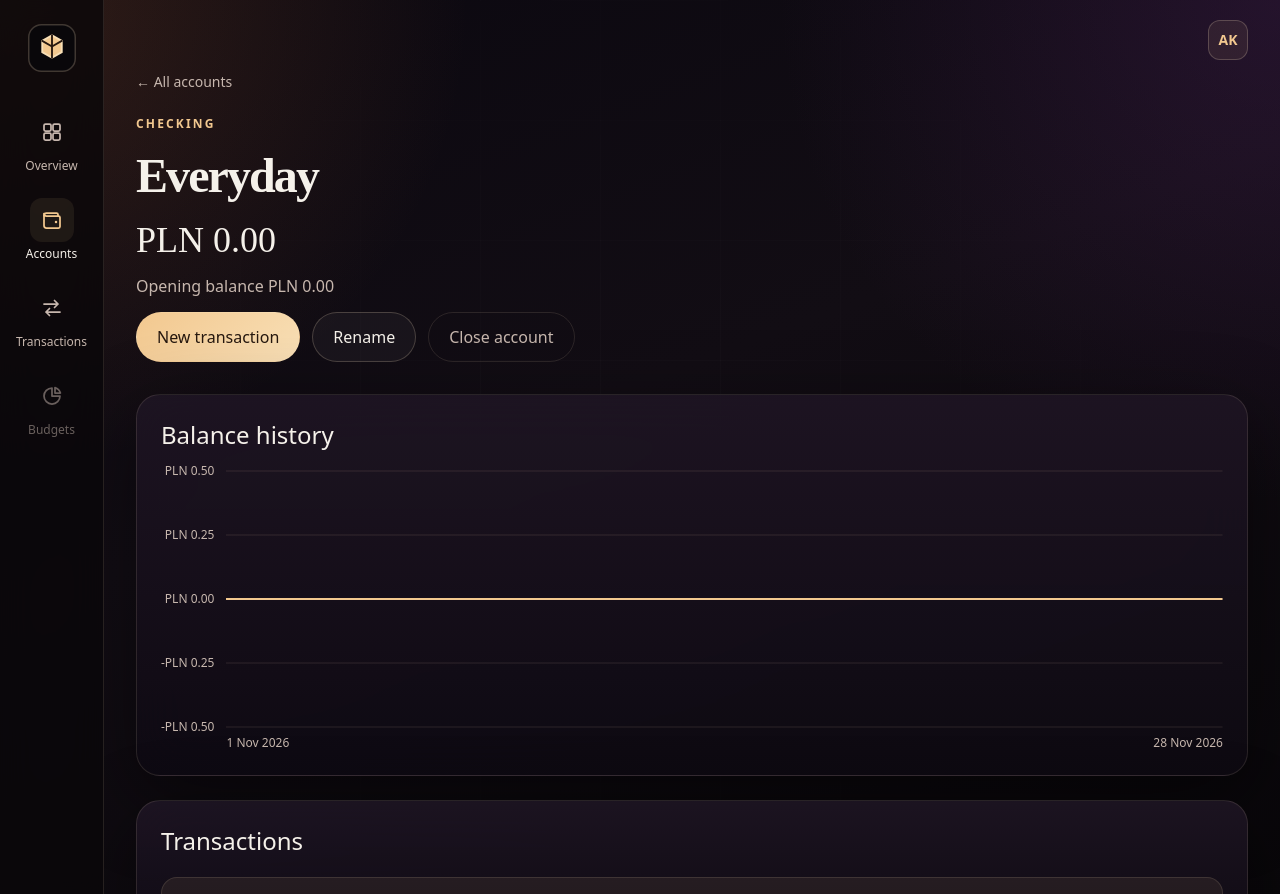
Test: accounts › renames and closes an account
Click the button "Rename" at (364, 337), box [312,312,416,362]
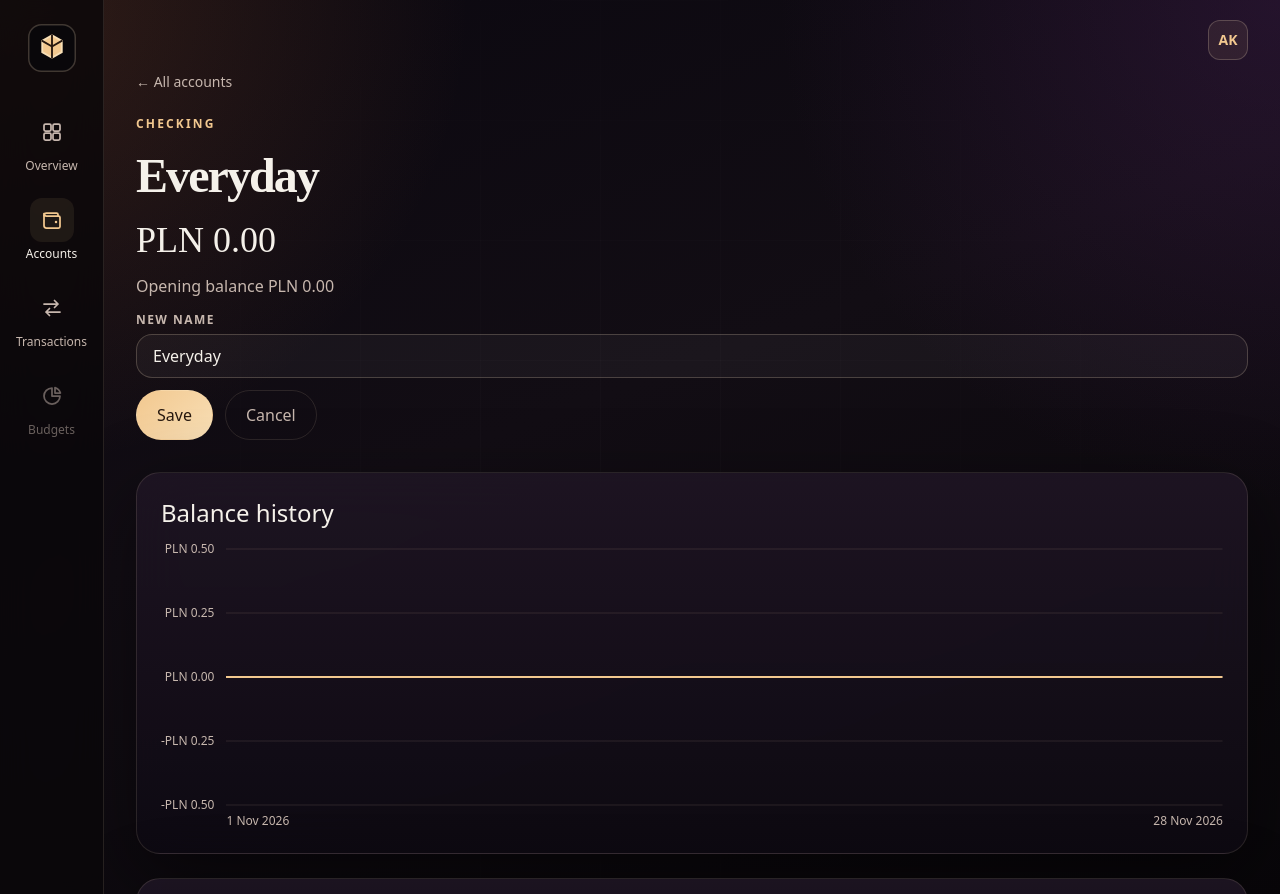
Replace the text in the field labelled "New name" with "Main account" at (692, 356), box [136,334,1248,378]
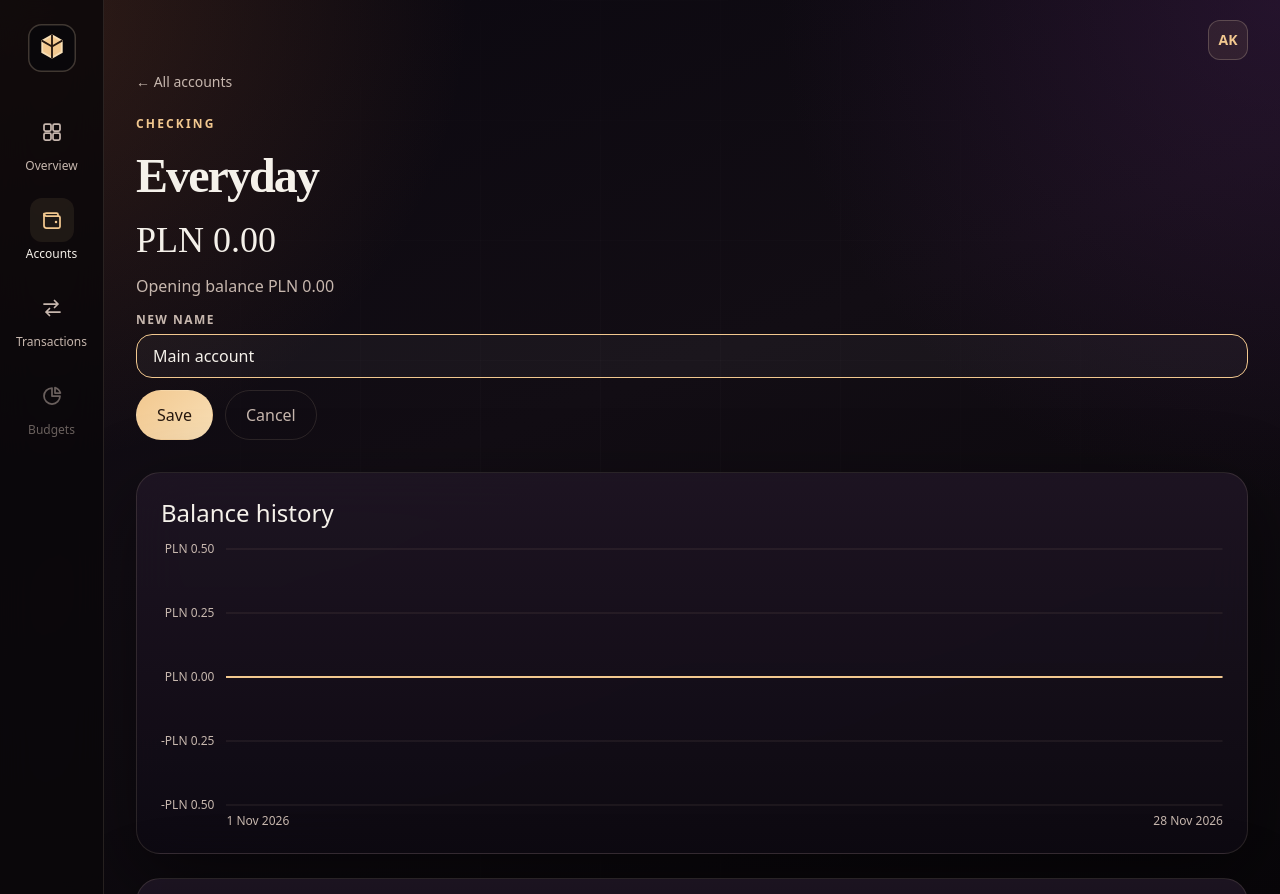
Click the button "Save" at (174, 415), box [136,390,213,440]
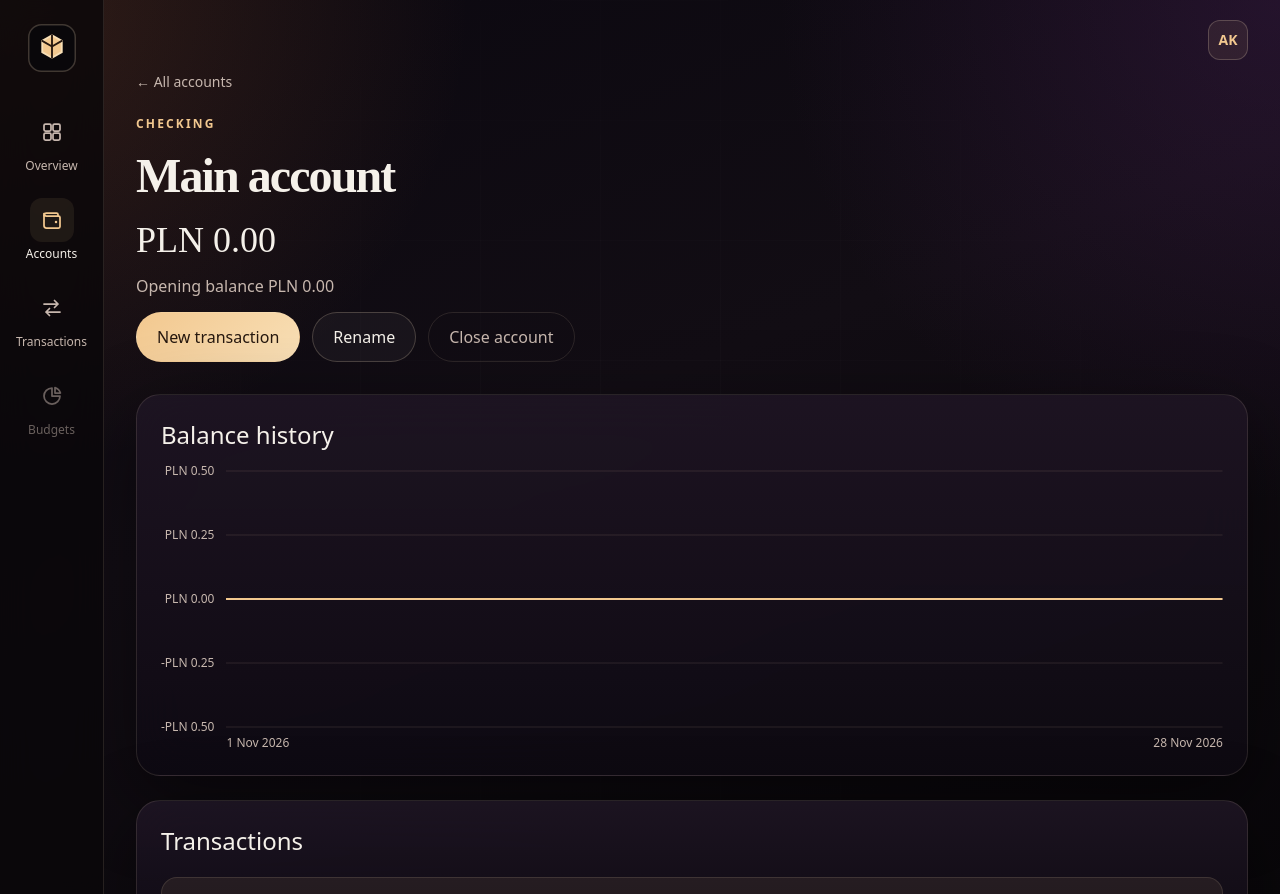
Expected: the heading "Main account" is shown, [136,149,394,202]
Click the button "Close account" at (501, 337), box [428,312,574,362]
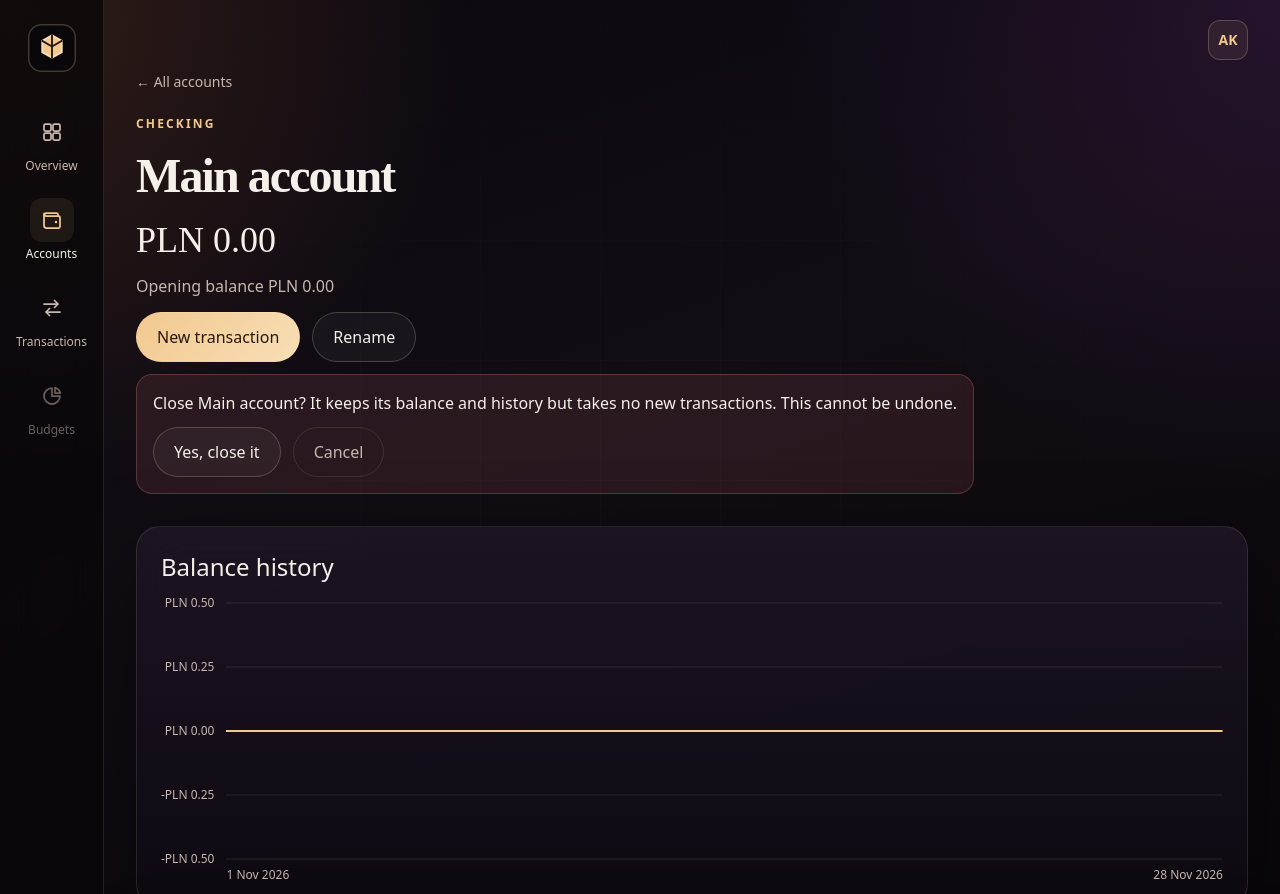
Click the button "Yes, close it" at (217, 452), box [153,427,281,477]
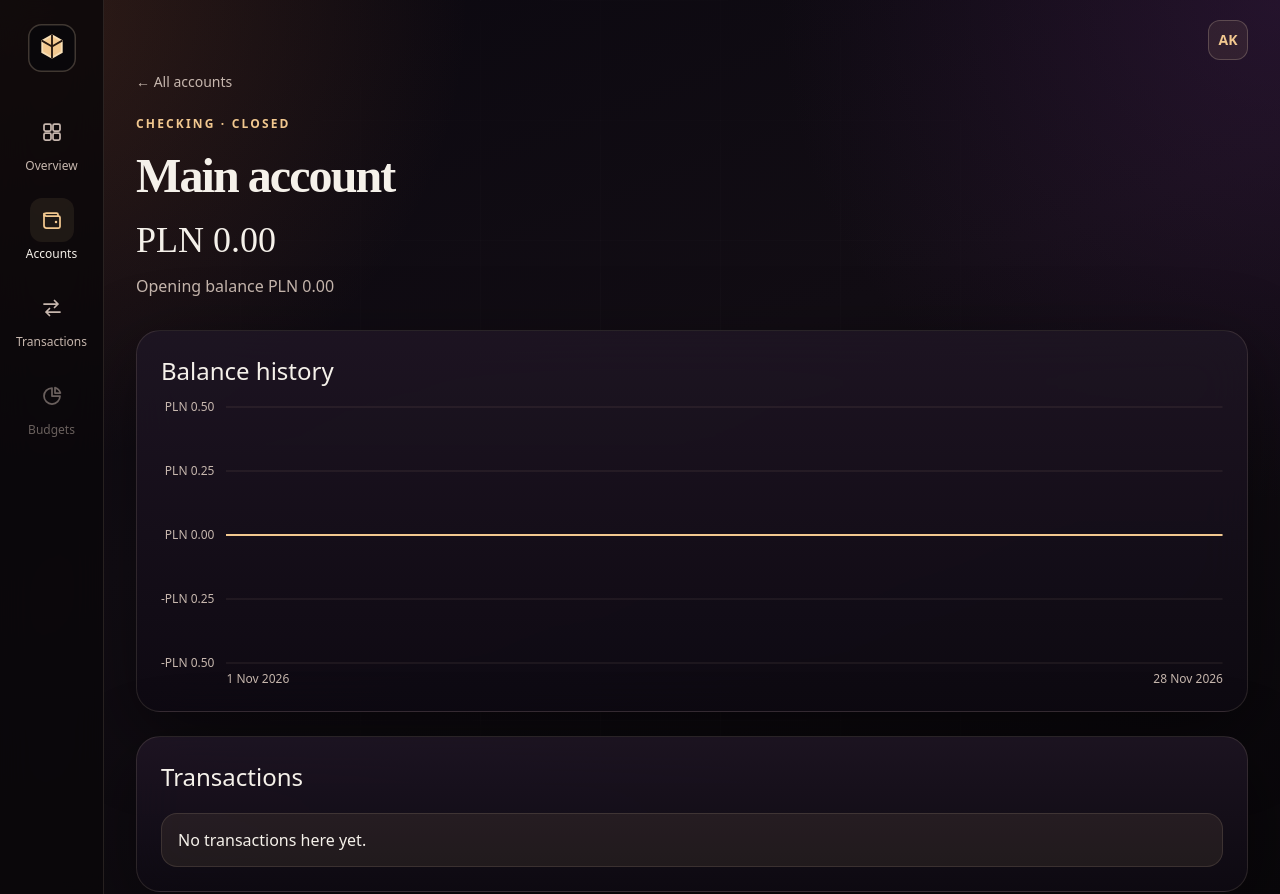
Expected: the text "Checking · Closed" is shown, [136,115,291,132]
